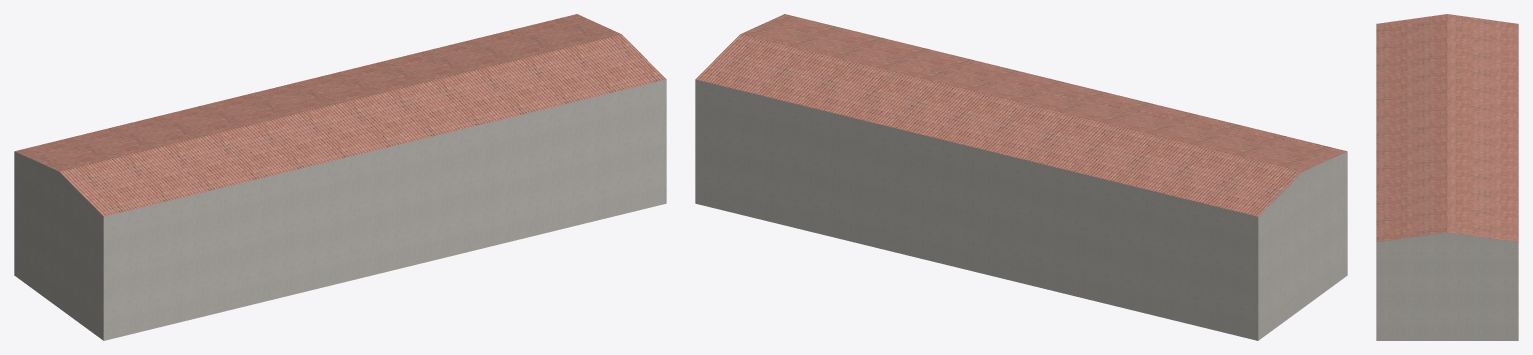
Rendered from smallRedRoofTechniBldg.gltf.
3 views of the same model, side by side, from view 1: azimuth 30°, elevation 25°; view 2: azimuth 150°, elevation 25°; view 3: azimuth 270°, elevation 25° (orthographic). The views are drawn at different scales.
Visible parts, largest first — view 1: node2, node1; view 2: node2, node1; view 3: node1, node2.
Boxes of the visible parts, <box> form: node2: <box>14,79,666,340</box>; node1: <box>15,14,666,216</box>; node2: <box>695,79,1347,340</box>; node1: <box>695,14,1346,216</box>; node1: <box>1376,14,1518,242</box>; node2: <box>1376,232,1518,340</box>.
Size of the model in its own units: 19.11 by 4.43 by 5.26.
